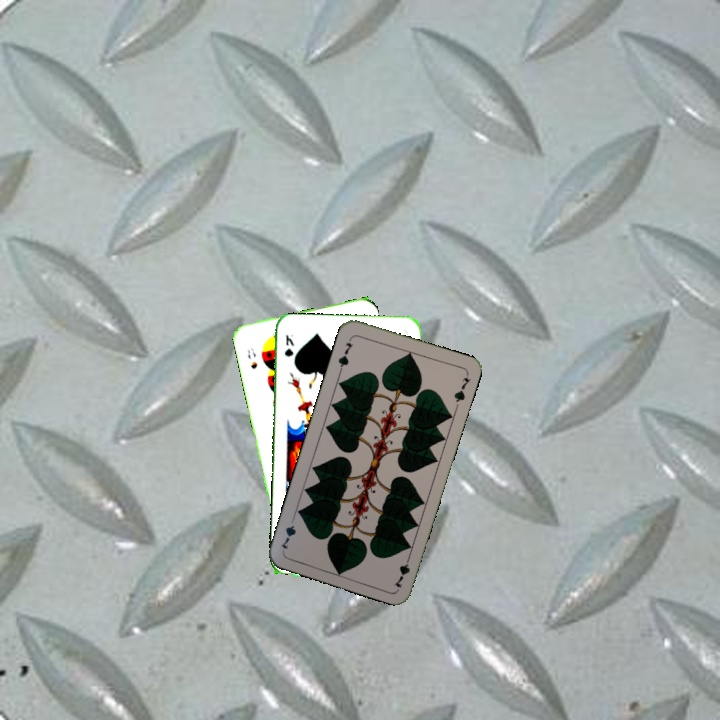G7: (390, 550, 413, 590), (334, 334, 356, 373)
GK: (281, 330, 297, 359)
S8: (243, 344, 260, 371)
